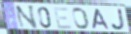0: (38, 6, 53, 30)
A: (91, 8, 111, 30)
E: (53, 7, 73, 30)
J: (110, 9, 127, 32)
N: (14, 5, 39, 30)
O: (72, 7, 91, 31)
